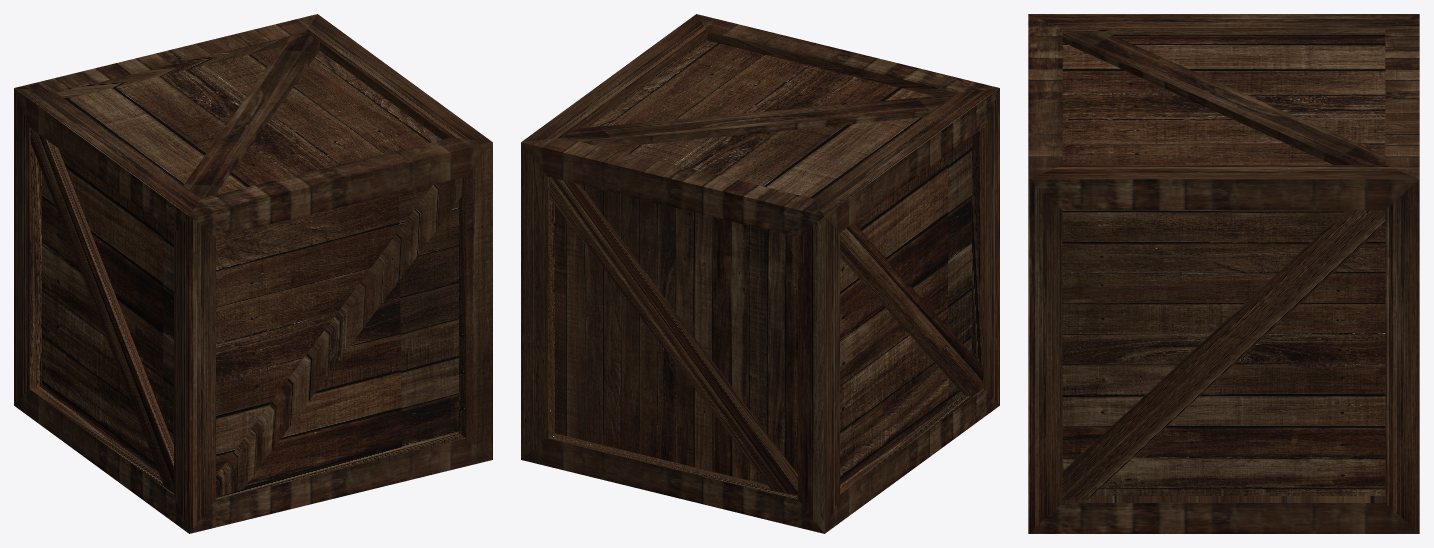
The picture shows the model from 3 angles, left to right: view 1: azimuth 30°, elevation 25°; view 2: azimuth 150°, elevation 25°; view 3: azimuth 270°, elevation 25°; orthographic projection. The views are drawn at different scales.
Parts seen in each view (by area): view 1: pCube1, pCube4, pCube2, pCube5; view 2: pCube1, pCube6, pCube5, pCube2; view 3: pCube1, pCube3, pCube5.
Boxes of the visible parts, left/top/right/bottom form: pCube1: left=14, top=14, right=492, bottom=533; pCube4: left=216, top=177, right=462, bottom=497; pCube2: left=30, top=128, right=173, bottom=493; pCube5: left=183, top=32, right=319, bottom=198; pCube1: left=521, top=14, right=999, bottom=533; pCube6: left=549, top=177, right=797, bottom=495; pCube5: left=564, top=95, right=953, bottom=147; pCube2: left=840, top=223, right=983, bottom=396; pCube1: left=1028, top=14, right=1419, bottom=533; pCube3: left=1062, top=210, right=1385, bottom=499; pCube5: left=1062, top=32, right=1385, bottom=164.
Size of the model in its own units: 2.29 by 2.29 by 2.29.
1 material, 1 textured.
